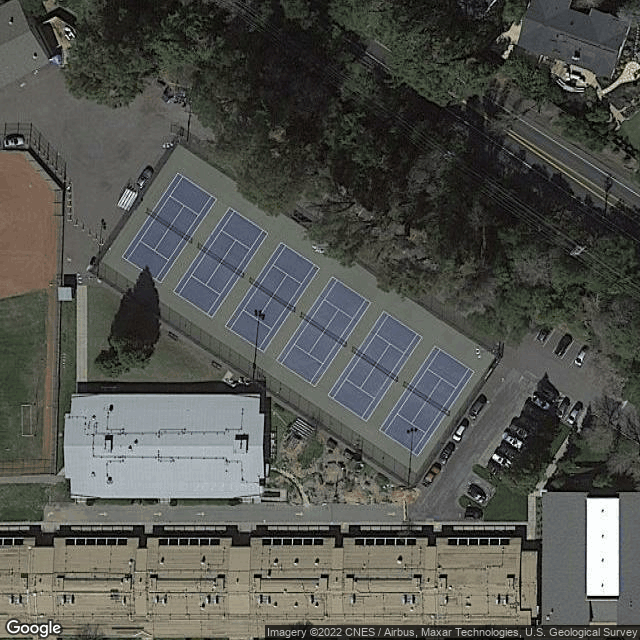Court: (273, 275, 372, 388), (171, 205, 268, 319), (225, 240, 321, 353), (328, 308, 423, 422), (378, 345, 475, 455), (121, 171, 216, 283)
